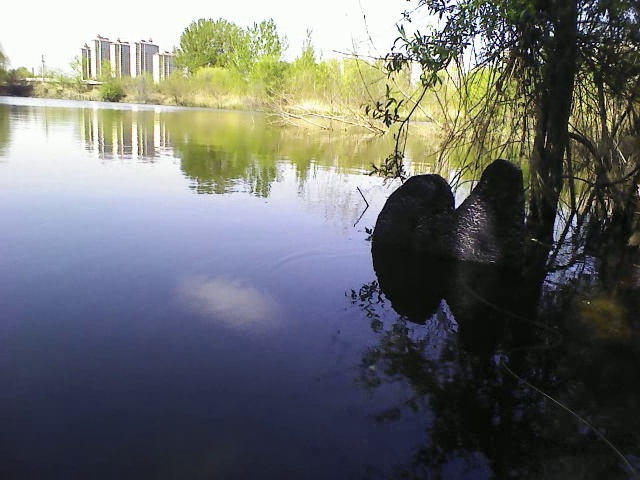rock: (363, 160, 527, 271)
